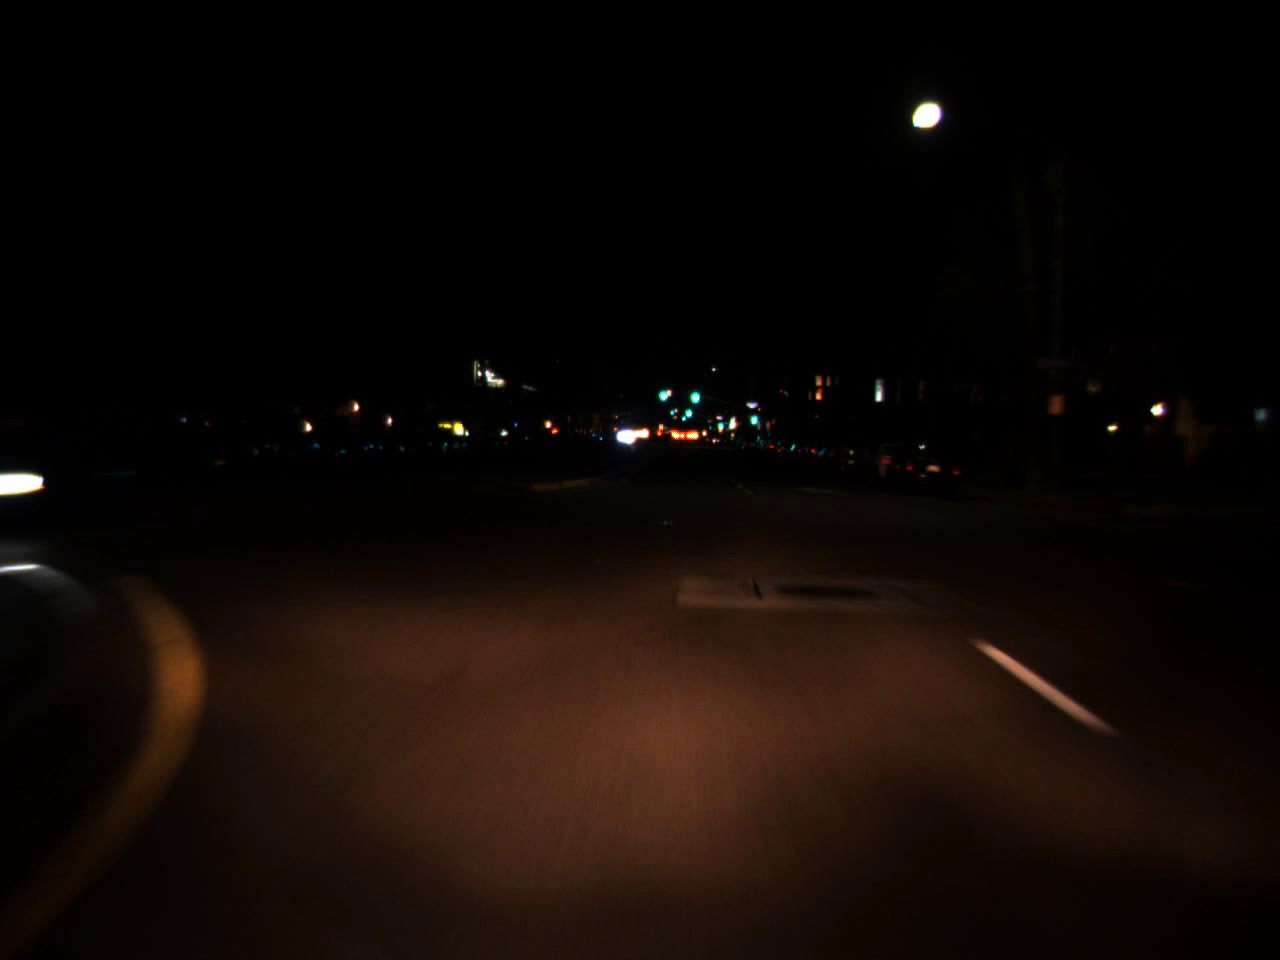go: (656, 378, 668, 405), (688, 375, 697, 408), (749, 404, 758, 428), (683, 402, 693, 417), (715, 415, 724, 430), (680, 408, 687, 423), (668, 404, 675, 416)
